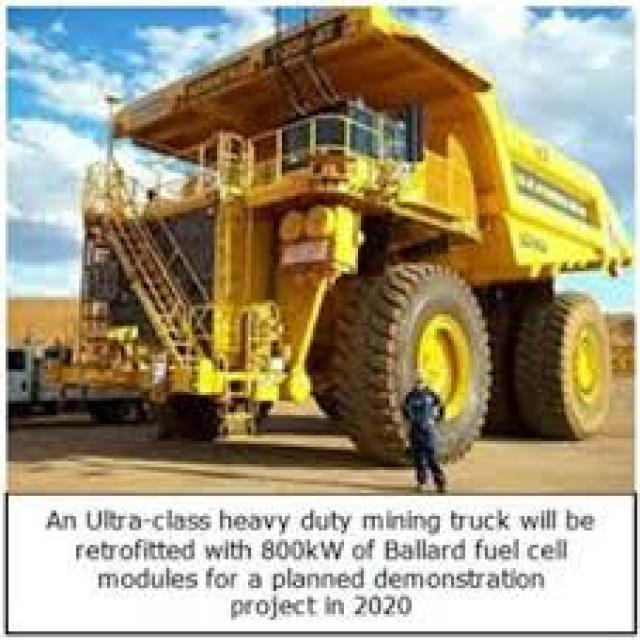dump_truck: (59, 12, 620, 467)
